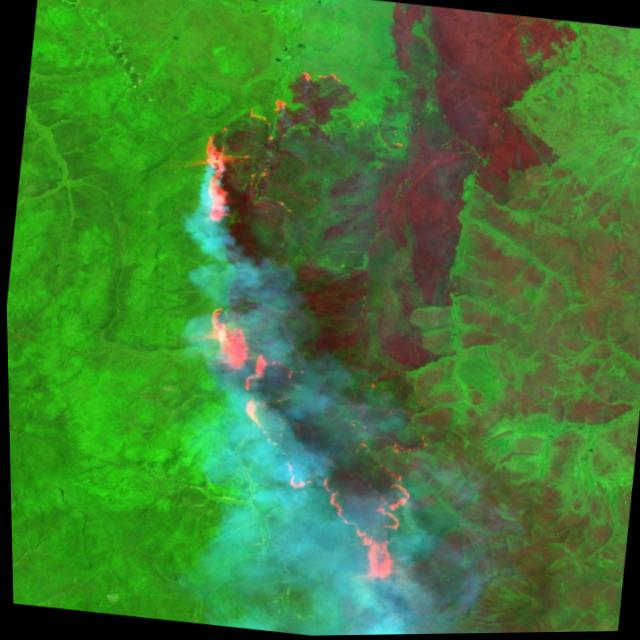fire: (132, 47, 483, 610)
